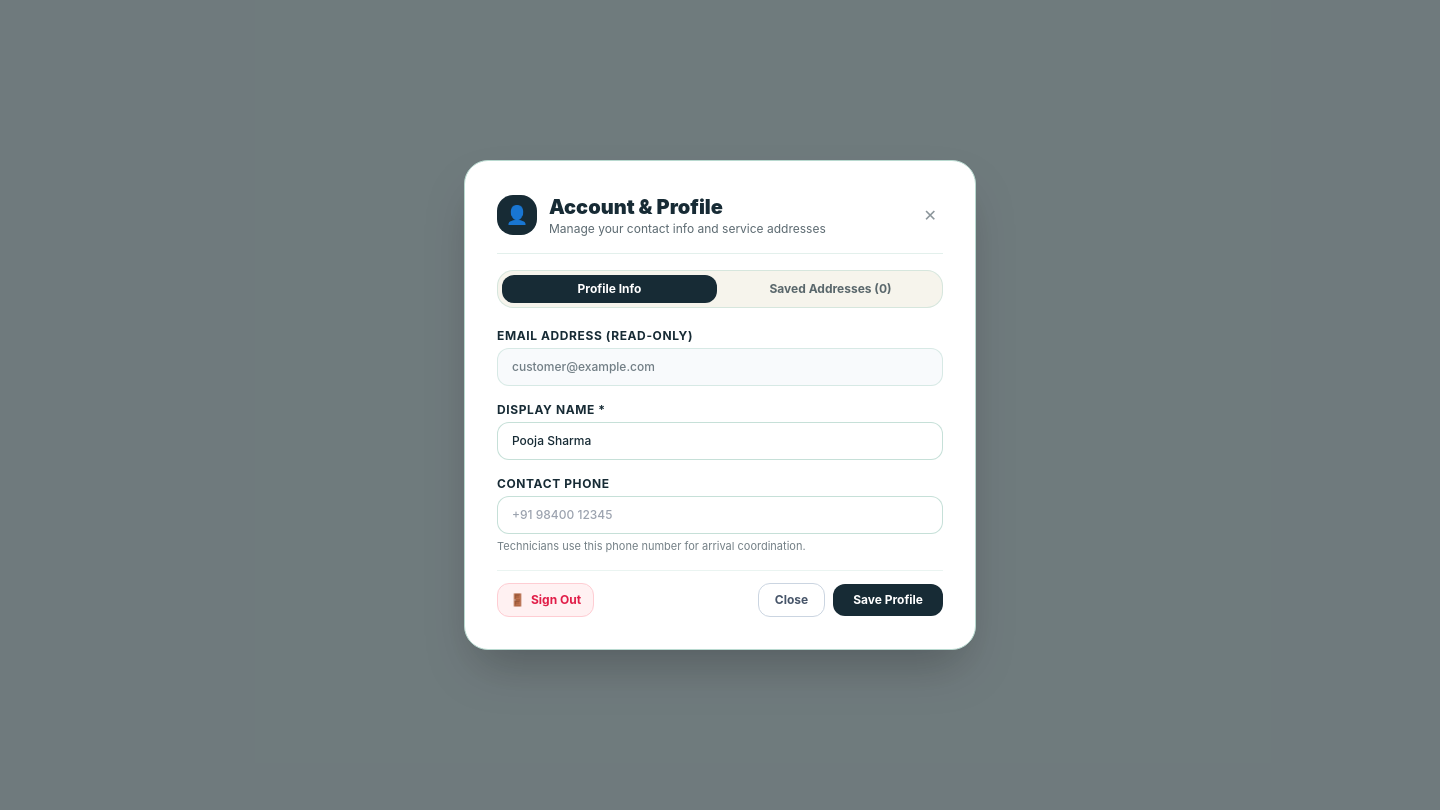
Test: CustomerProfileModal Component › allows managing saved addresses: adding, listing, and switching tabs
// Switch to Saved Addresses tab
Step 1. Click the button "Saved Addresses (0)" → (830, 289), box [723, 275, 938, 303]
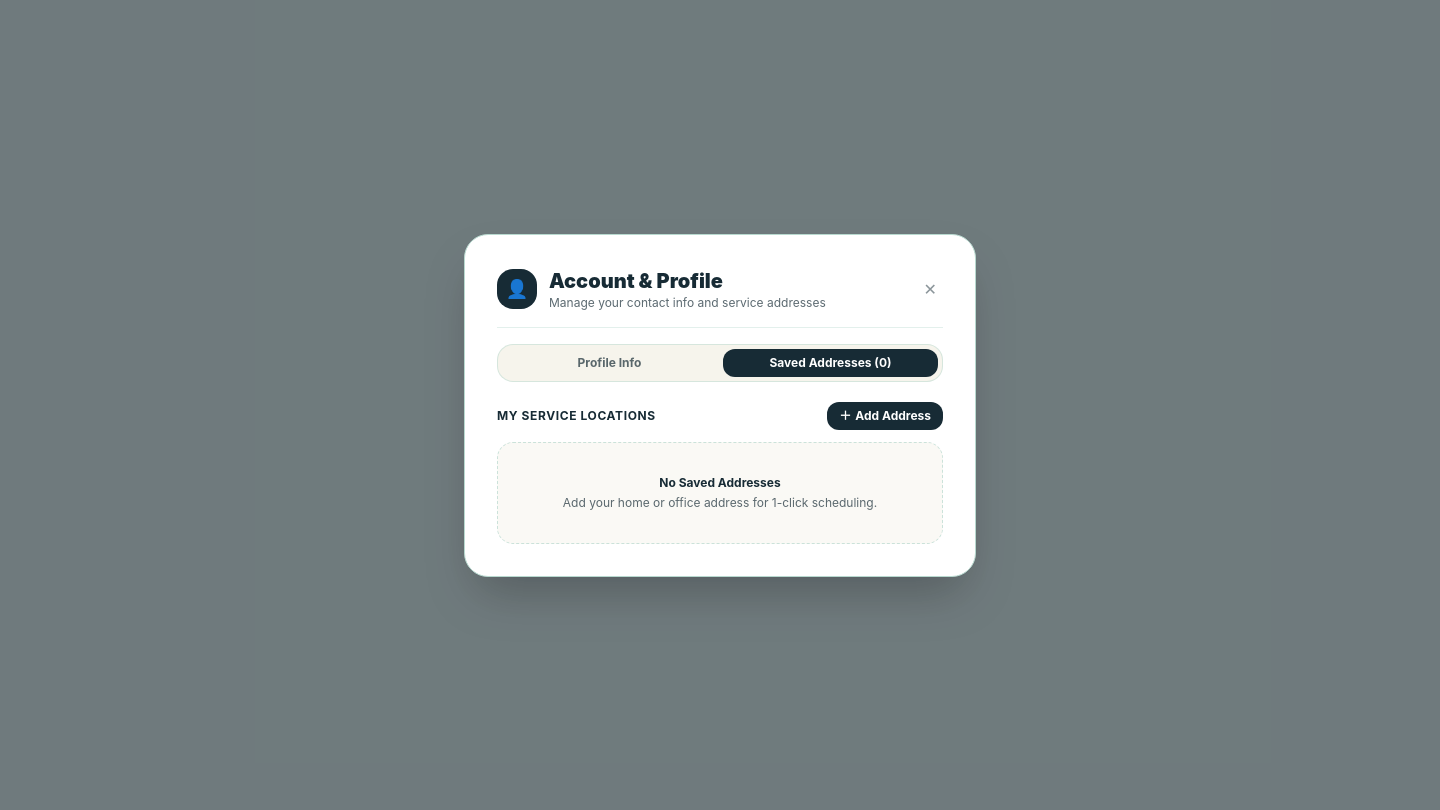
Check: the text "My Service Locations" is shown, box [497, 408, 656, 424]
// Click Add Address
Step 2. Click the button "＋ Add Address" → (885, 416), box [827, 402, 943, 430]
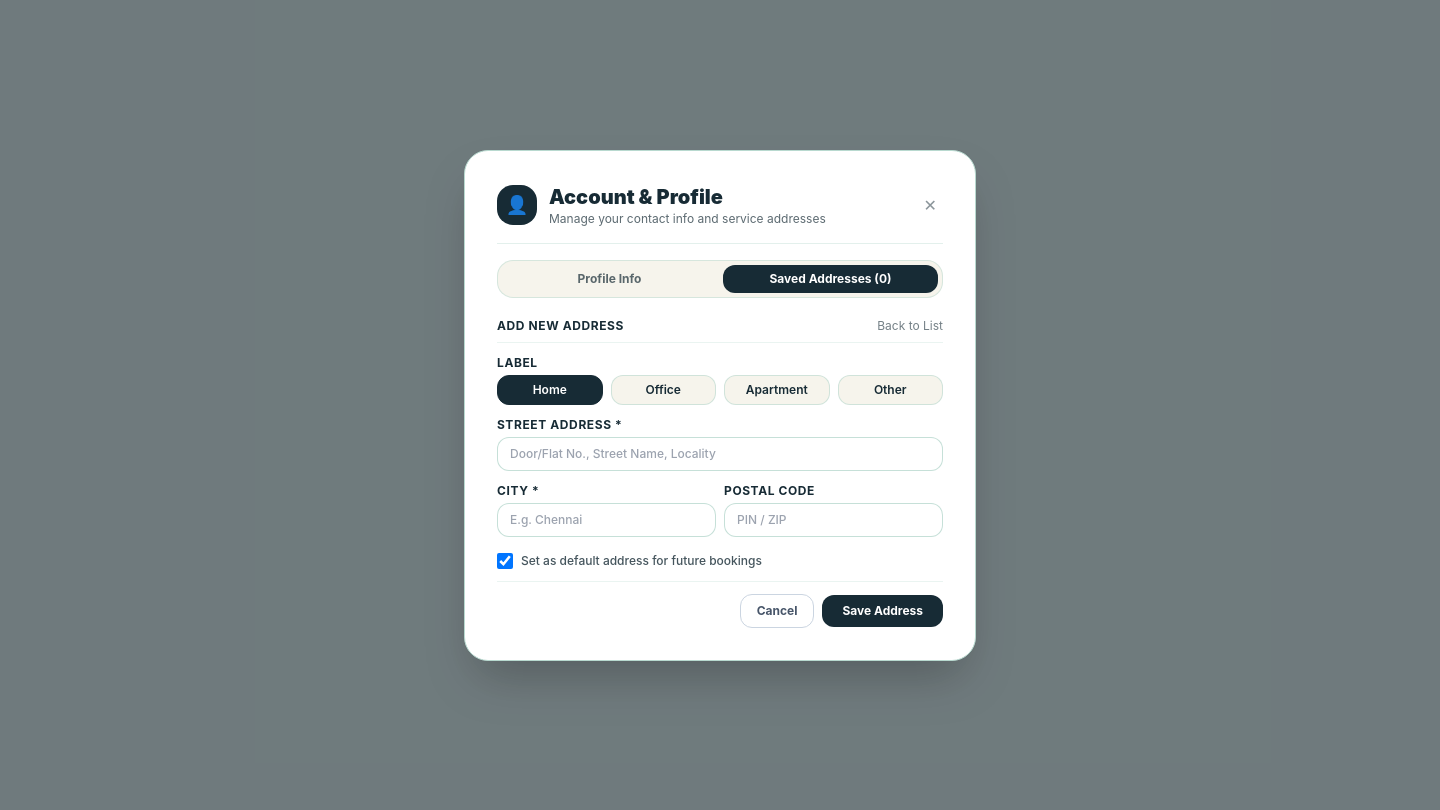
Check: the heading "Add New Address" is shown, box [497, 318, 624, 334]
// Fill form
Step 3. Type "45 Lake View Road" into the field labelled "Street Address *" → (720, 454), box [497, 436, 943, 470]
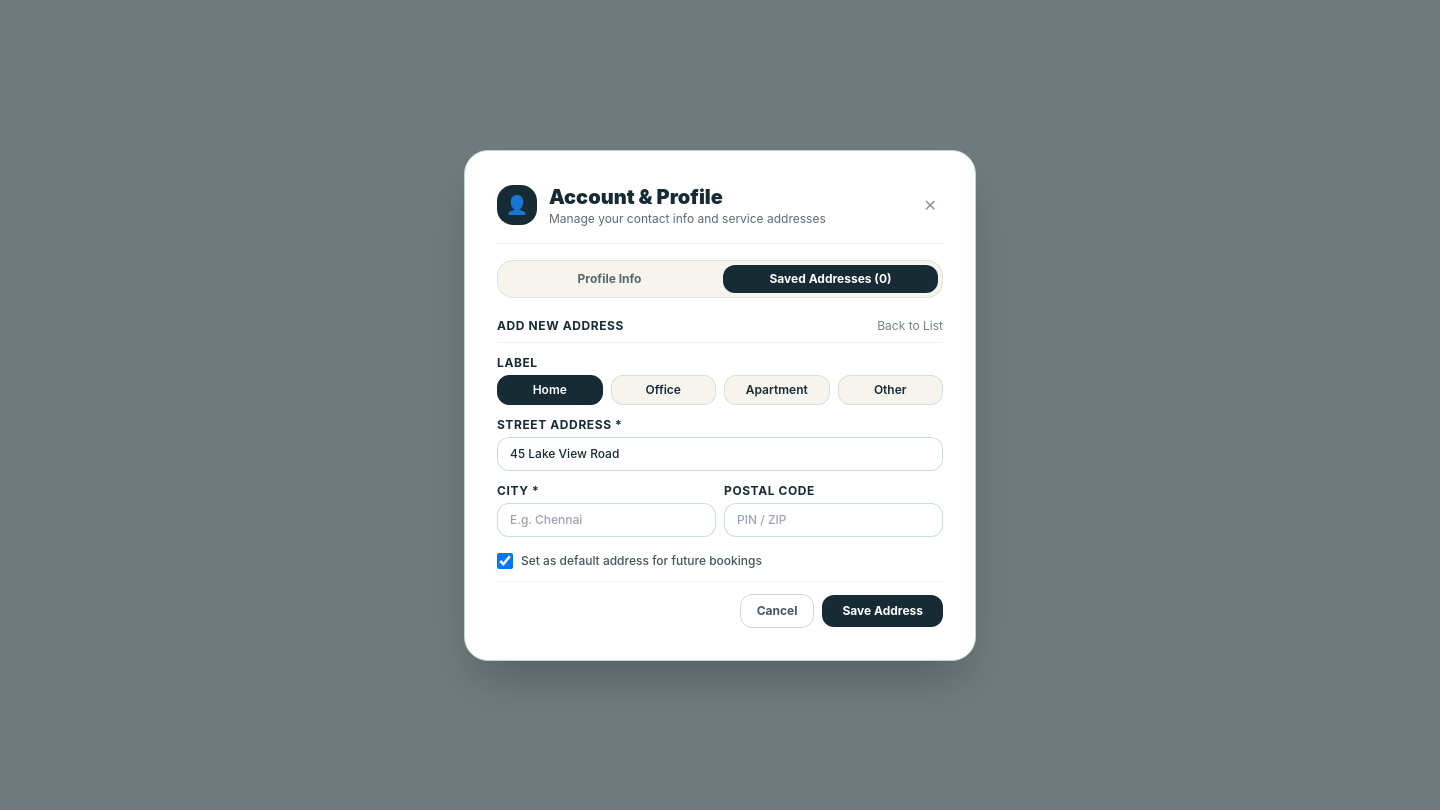
Step 4. Type "Chennai" into the field labelled "City *" → (606, 520), box [497, 502, 716, 536]
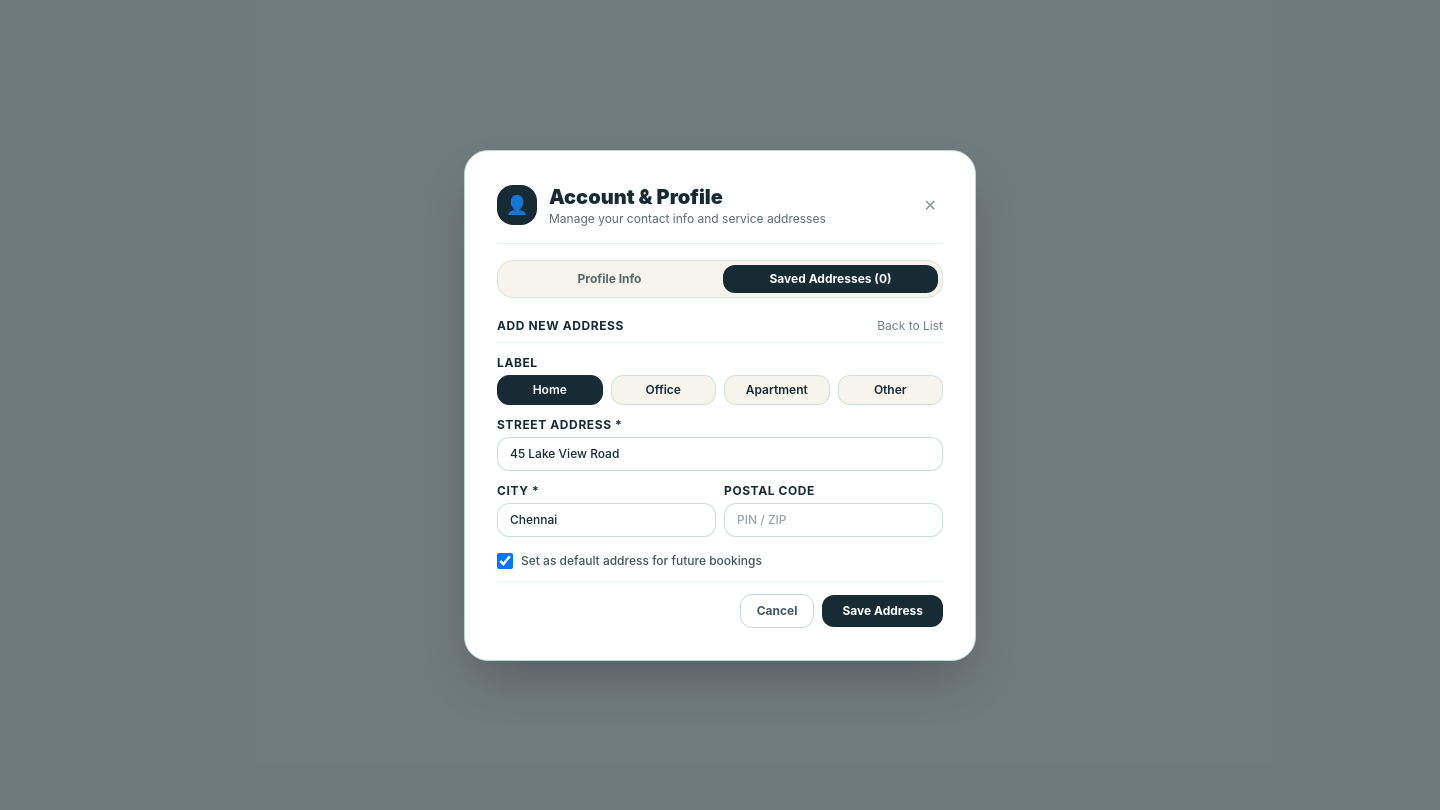
Step 5. Type "600042" into the field labelled "Postal Code" → (834, 520), box [724, 502, 943, 536]
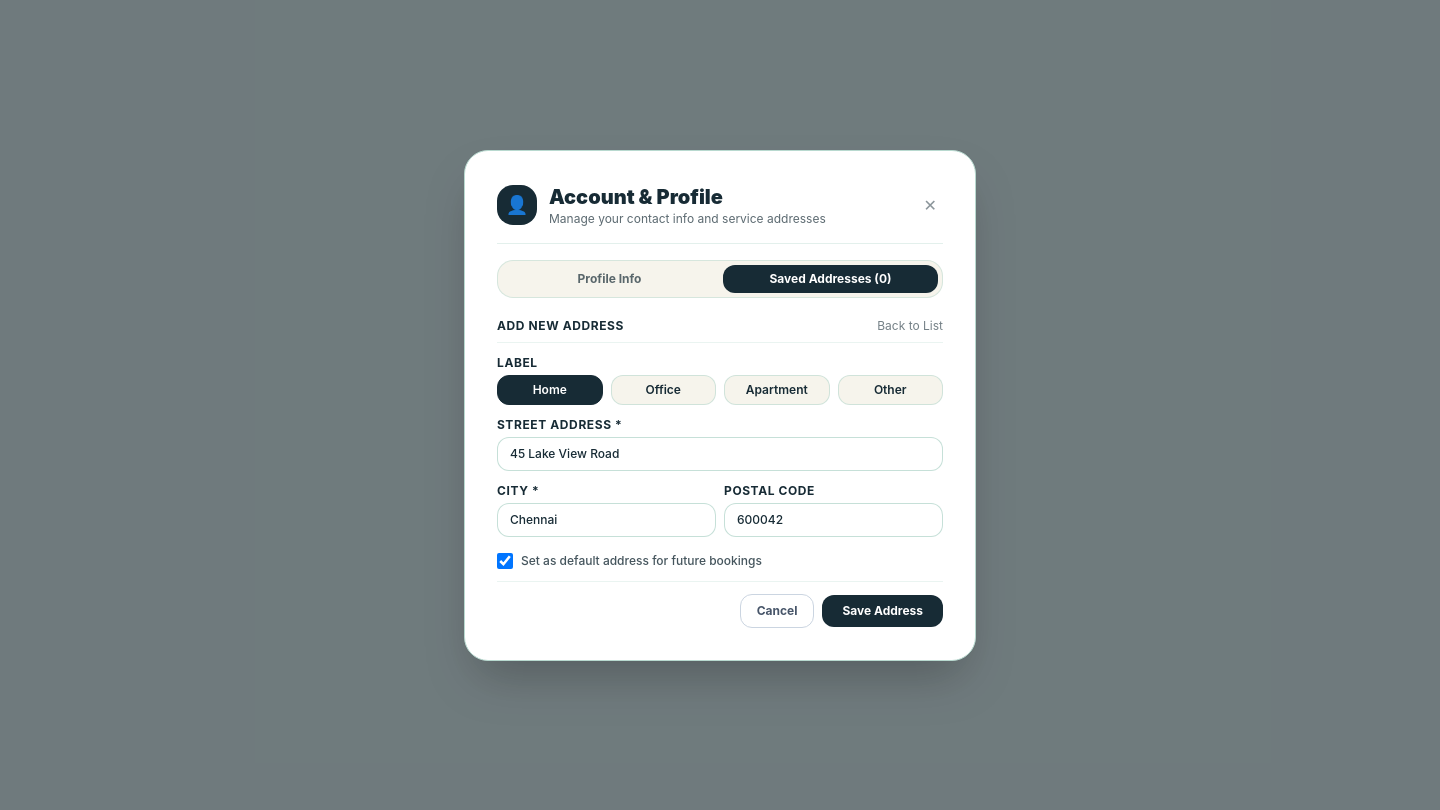
// Save Address
Step 6. Click the button "Save Address" → (883, 610), box [822, 594, 943, 626]
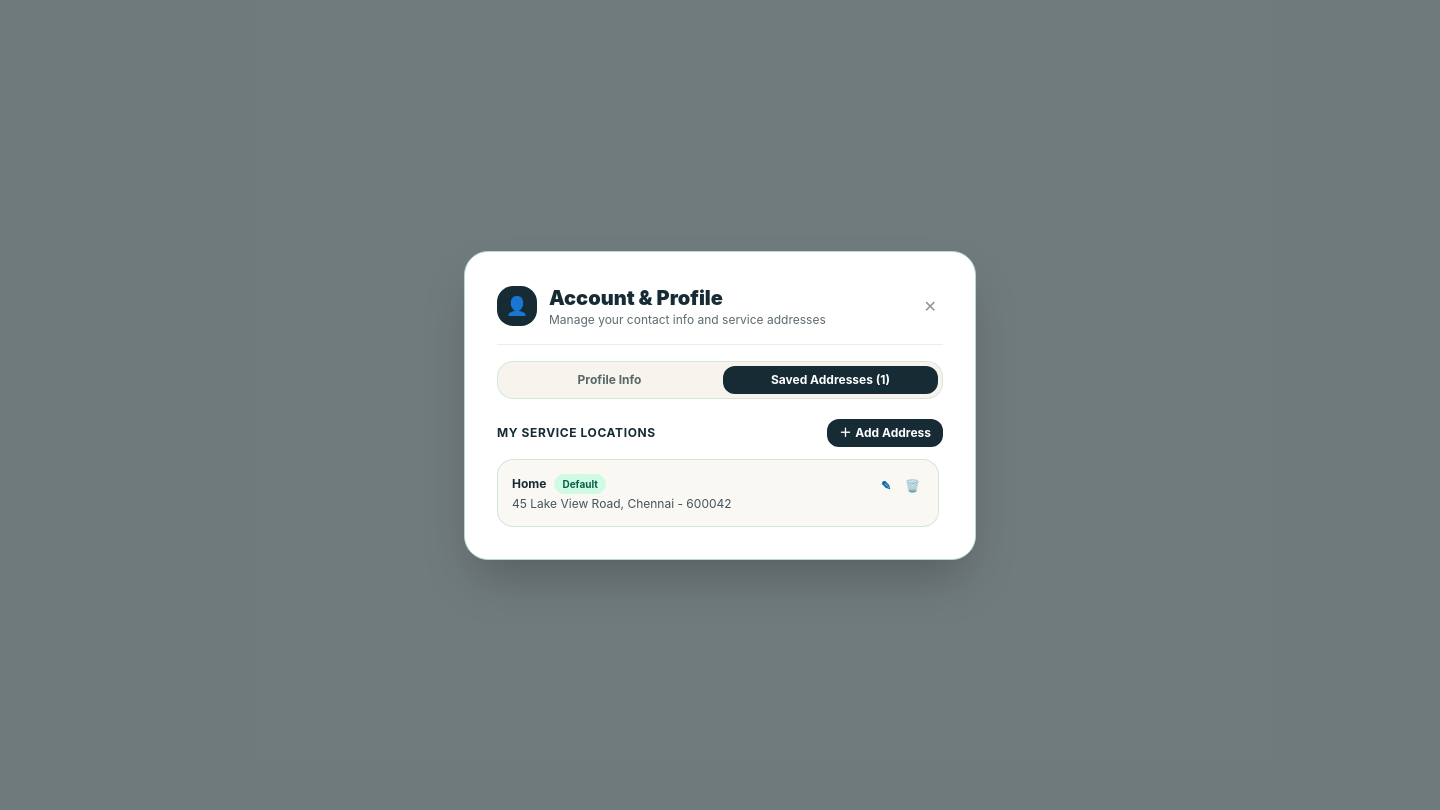
Check: the text "45 Lake View Road, Chennai - 600042" is shown, box [512, 496, 732, 512]
